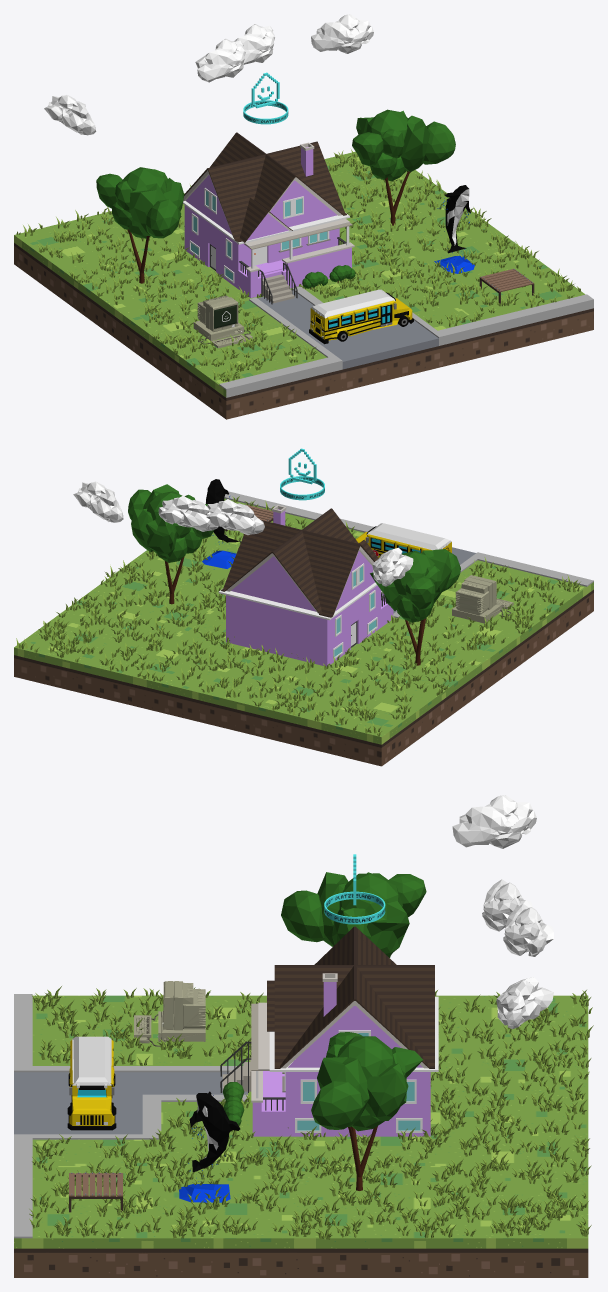
3 views of the same model, one above another, from view 1: azimuth 30°, elevation 25°; view 2: azimuth 150°, elevation 25°; view 3: azimuth 270°, elevation 25° (orthographic). The views are drawn at different scales.
Visible parts, largest first — view 1: Cube.006, Cube.391, Circle.012_Grass_0.192, Cube.007, tree, tree.001, VEHICLES_SCHOOL_BUS, OBJRANDOM_RETRO_PC, ANIMAL_ORCA, TYPE_PREMIUM, Cube.009; view 2: Cube.006, Cube.391, Circle.012_Grass_0.192, Cube.007, tree.001, tree, OBJRANDOM_RETRO_PC, VEHICLES_SCHOOL_BUS, ANIMAL_ORCA, TYPE_PREMIUM; view 3: Cube.006, Circle.012_Grass_0.192, Cube.391, tree, Cube.007, tree.001, VEHICLES_SCHOOL_BUS, OBJRANDOM_RETRO_PC, ANIMAL_ORCA, Cube.009, TYPE_PREMIUM.
Boxes of the visible parts, x1,y1,x2,y2 form: Cube.006: [14, 151, 593, 419]; Cube.391: [183, 132, 354, 304]; Circle.012_Grass_0.192: [16, 149, 580, 381]; Cube.007: [44, 14, 373, 135]; tree: [352, 109, 455, 225]; tree.001: [96, 167, 184, 283]; VEHICLES_SCHOOL_BUS: [309, 289, 413, 344]; OBJRANDOM_RETRO_PC: [193, 295, 252, 348]; ANIMAL_ORCA: [434, 185, 474, 273]; TYPE_PREMIUM: [243, 72, 288, 124]; Cube.009: [479, 268, 534, 303]; Cube.006: [14, 491, 593, 766]; Cube.391: [218, 505, 393, 666]; Circle.012_Grass_0.192: [16, 496, 580, 736]; Cube.007: [73, 481, 413, 586]; tree.001: [370, 549, 460, 665]; tree: [128, 484, 214, 604]; OBJRANDOM_RETRO_PC: [452, 575, 513, 623]; VEHICLES_SCHOOL_BUS: [356, 523, 451, 558]; ANIMAL_ORCA: [202, 479, 240, 569]; TYPE_PREMIUM: [280, 448, 324, 500]; Cube.006: [14, 994, 588, 1277]; Circle.012_Grass_0.192: [29, 986, 593, 1239]; Cube.391: [220, 926, 438, 1136]; tree: [311, 1032, 422, 1190]; Cube.007: [452, 795, 553, 1029]; tree.001: [281, 872, 426, 957]; VEHICLES_SCHOOL_BUS: [67, 1036, 116, 1130]; OBJRANDOM_RETRO_PC: [134, 981, 205, 1046]; ANIMAL_ORCA: [179, 1091, 240, 1202]; Cube.009: [69, 1172, 122, 1212]; TYPE_PREMIUM: [324, 854, 385, 924].
Size of the model in its own units: 4071 by 2300 by 4040.
Materials: 40 (4 with a texture image).
